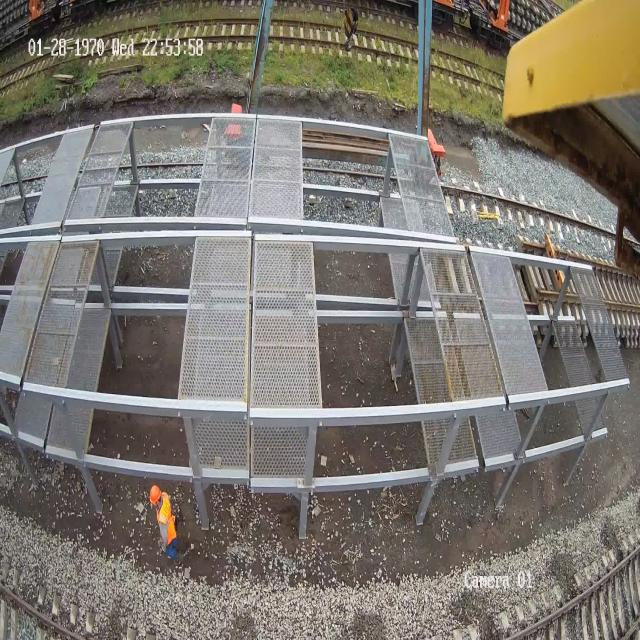Helmet: (149, 484, 161, 504)
Person: (149, 484, 178, 559)
